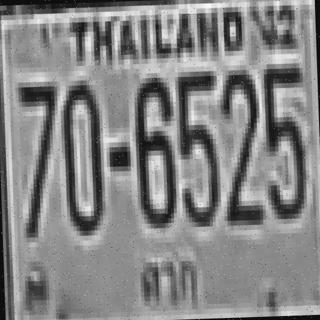N00: (59, 75, 103, 231)
N02: (219, 67, 260, 224)
N05: (260, 58, 304, 214), (174, 66, 218, 222)
N06: (133, 72, 174, 224)
N07: (15, 79, 59, 235), (15, 79, 57, 182)
P69: (130, 250, 206, 317)
